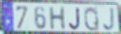6: (33, 6, 47, 31)
7: (16, 5, 30, 31)
H: (48, 5, 66, 31)
J: (102, 7, 116, 32), (69, 7, 82, 31)
Q: (84, 6, 101, 32)
